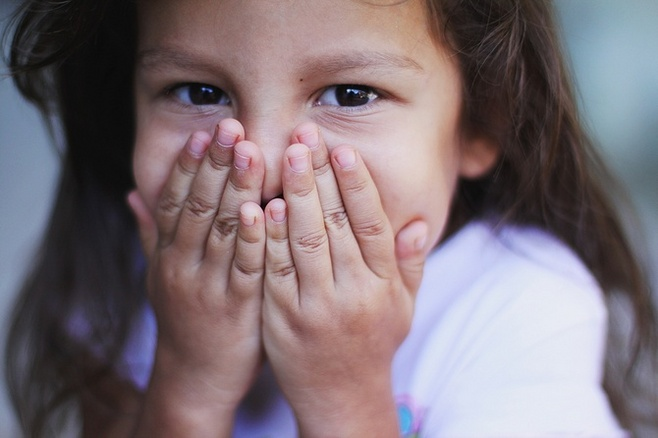face: (131, 1, 452, 333)
